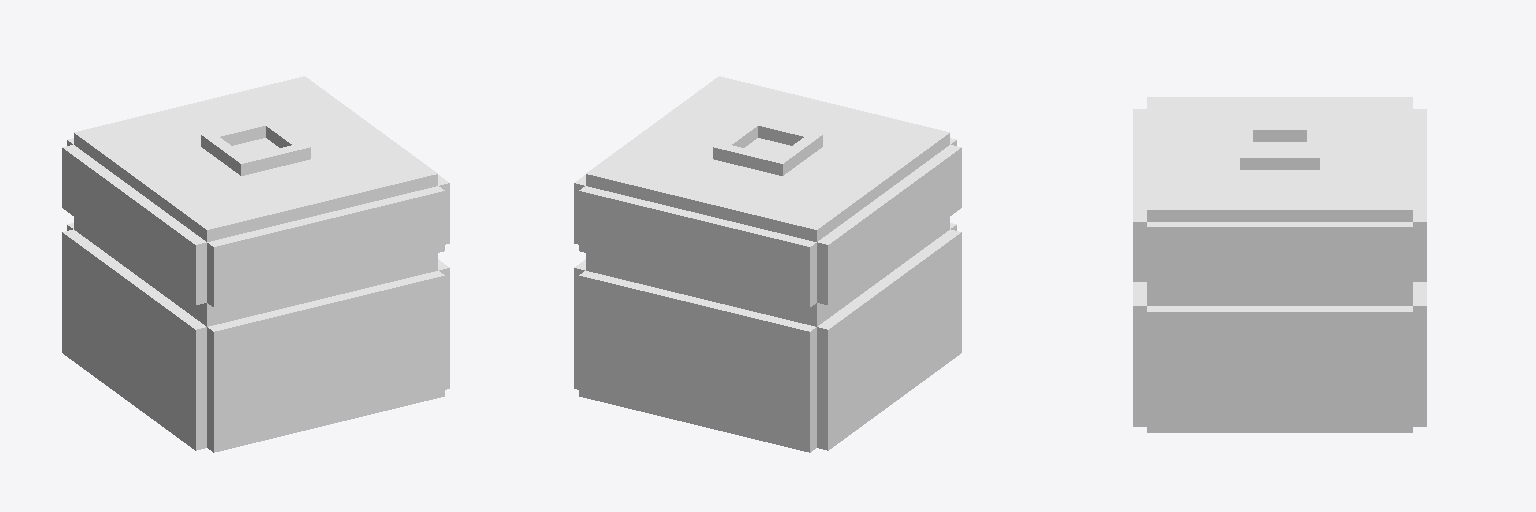
Rendered from Dome3-2-Dome.obj.
3 views of the same model, side by side, from view 1: azimuth 30°, elevation 25°; view 2: azimuth 150°, elevation 25°; view 3: azimuth 270°, elevation 25° (orthographic).
Parts seen in each view (by area): view 1: Dome; view 2: Dome; view 3: Dome.
Boxes of the visible parts, x1=… form: Dome: x1=62, y1=76, x2=449, y2=452; Dome: x1=574, y1=76, x2=961, y2=452; Dome: x1=1133, y1=97, x2=1426, y2=432.
Bounding box in the file's own units: 2.2 × 1.9 × 2.2.